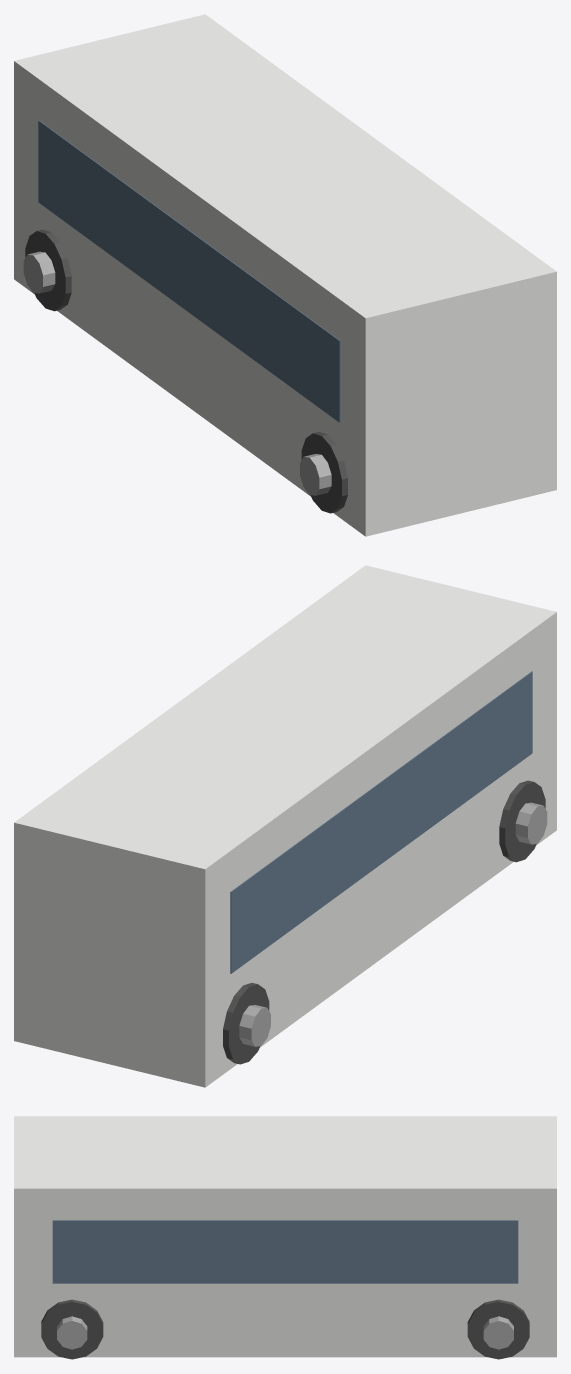
The model's file is shuttle_bus.glb.
3 renders of one model, top to bottom at view 1: azimuth 30°, elevation 25°; view 2: azimuth 150°, elevation 25°; view 3: azimuth 270°, elevation 25°, orthographic. The views are drawn at different scales.
Parts seen in each view (by area): view 1: body, glass, wheel_fr, wheel_rr, hub_-1_-1, hub_-1_1; view 2: body, glass, wheel_rr, wheel_fr, hub_-1_1, hub_-1_-1; view 3: body, glass, wheel_fl, wheel_rl, hub_1_1, hub_1_-1.
Boxes of the visible parts, bbox=[...] form: body: bbox=[14, 14, 556, 536]; glass: bbox=[38, 120, 340, 422]; wheel_fr: bbox=[301, 432, 347, 513]; wheel_rr: bbox=[25, 229, 71, 311]; hub_-1_-1: bbox=[23, 251, 55, 293]; hub_-1_1: bbox=[300, 454, 331, 495]; body: bbox=[14, 565, 556, 1087]; glass: bbox=[230, 671, 532, 973]; wheel_rr: bbox=[223, 983, 269, 1064]; wheel_fr: bbox=[499, 780, 545, 862]; hub_-1_1: bbox=[515, 802, 547, 844]; hub_-1_-1: bbox=[239, 1005, 270, 1046]; body: bbox=[14, 1116, 556, 1357]; glass: bbox=[52, 1220, 518, 1283]; wheel_fl: bbox=[41, 1299, 103, 1359]; wheel_rl: bbox=[467, 1299, 529, 1359]; hub_1_1: bbox=[57, 1316, 87, 1349]; hub_1_-1: bbox=[483, 1316, 513, 1349].
Bounding box in the file's own units: 2.62 × 2.4 × 7.
